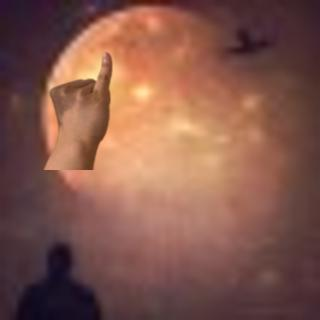FINE: (46, 50, 118, 147)
